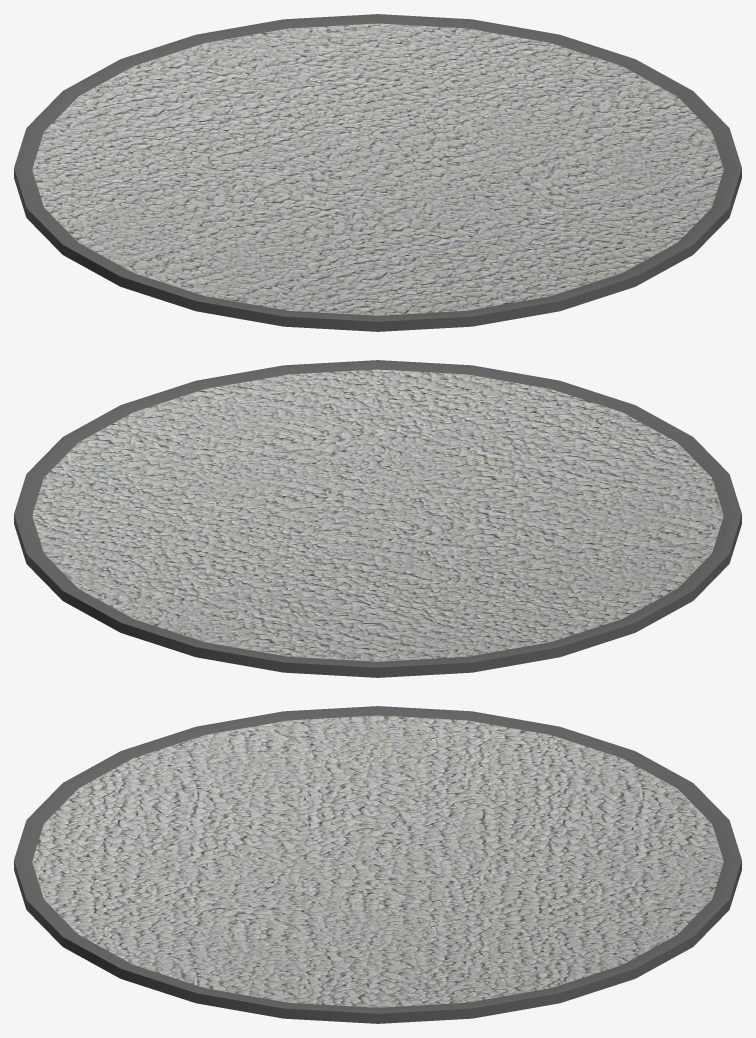
The model's file is carpet2.fbx.
3 views of the same model, one above another, from view 1: azimuth 30°, elevation 25°; view 2: azimuth 150°, elevation 25°; view 3: azimuth 270°, elevation 25° (orthographic).
Parts seen in each view (by area): view 1: Cylinder; view 2: Cylinder; view 3: Cylinder.
Boxes of the visible parts, <box> form: Cylinder: <box>14,14,741,331</box>; Cylinder: <box>14,360,741,677</box>; Cylinder: <box>14,706,741,1023</box>.
Bounding box in the file's own units: 200 × 3.09 × 200.
2 materials, 1 textured.
